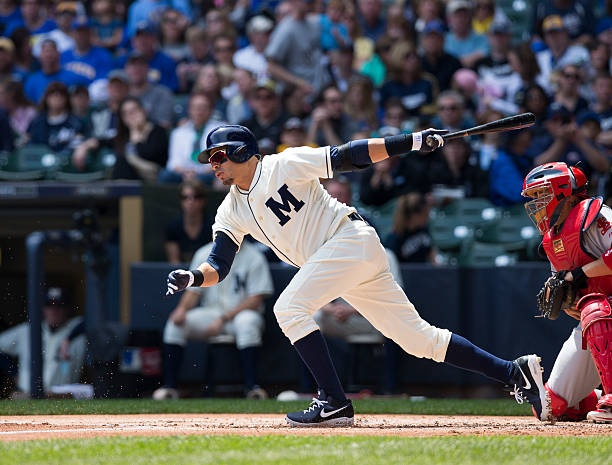bita: (428, 114, 541, 149)
